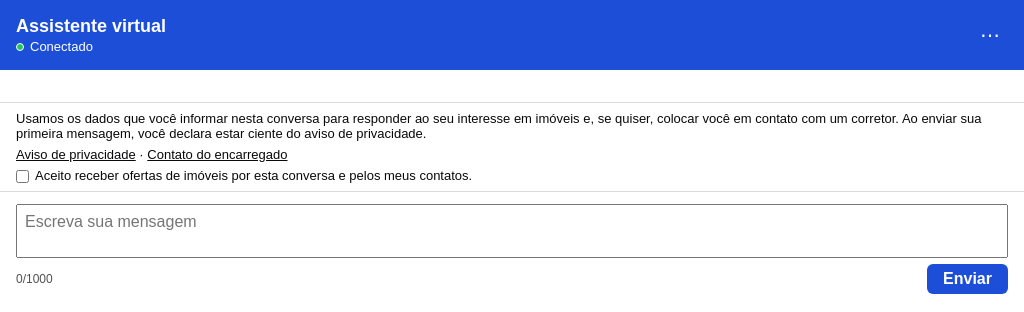
Conversa › o prazo do primeiro envio nao derruba o reenvio feito antes dele
Type "Aceita pet?" into the text box labelled "mensagem" at (512, 231), box [16, 204, 1008, 258]
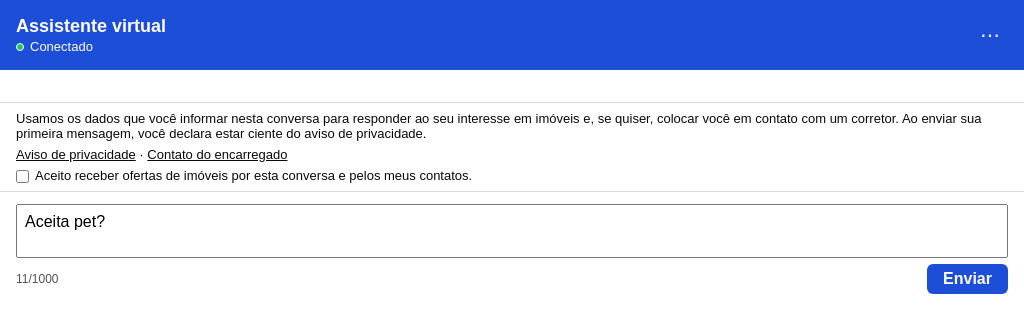
Click the button "Enviar" at (968, 279), box [927, 264, 1008, 294]
Wait 3000 ms
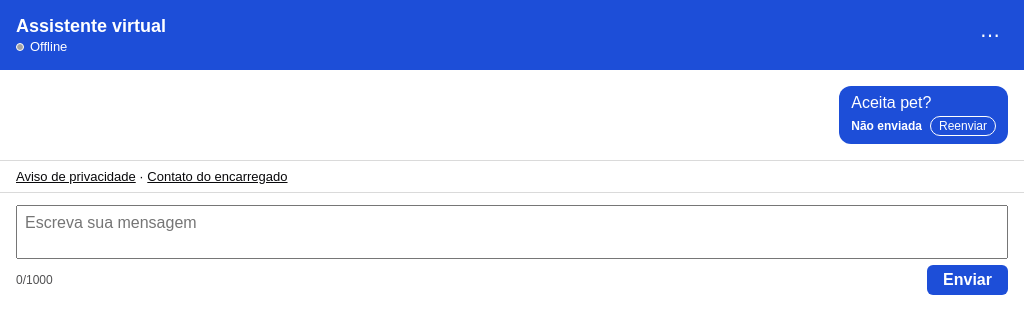
Click the button "Reenviar" at (963, 126), box [930, 116, 996, 136]
Wait 7000 ms
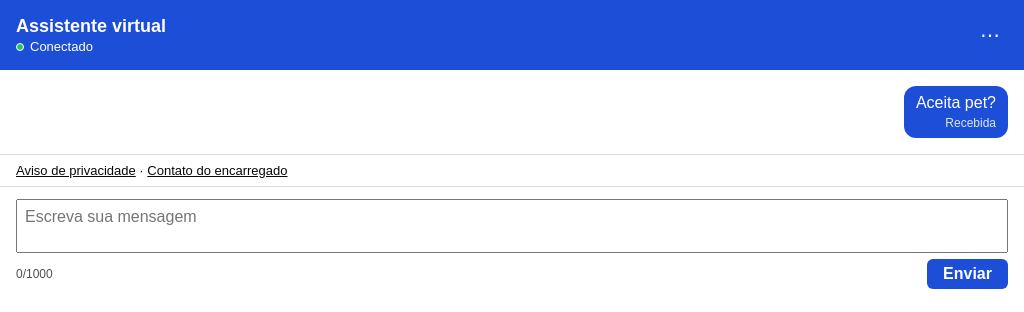
expect the text "Recebida" is shown: met, box [945, 116, 996, 130]
